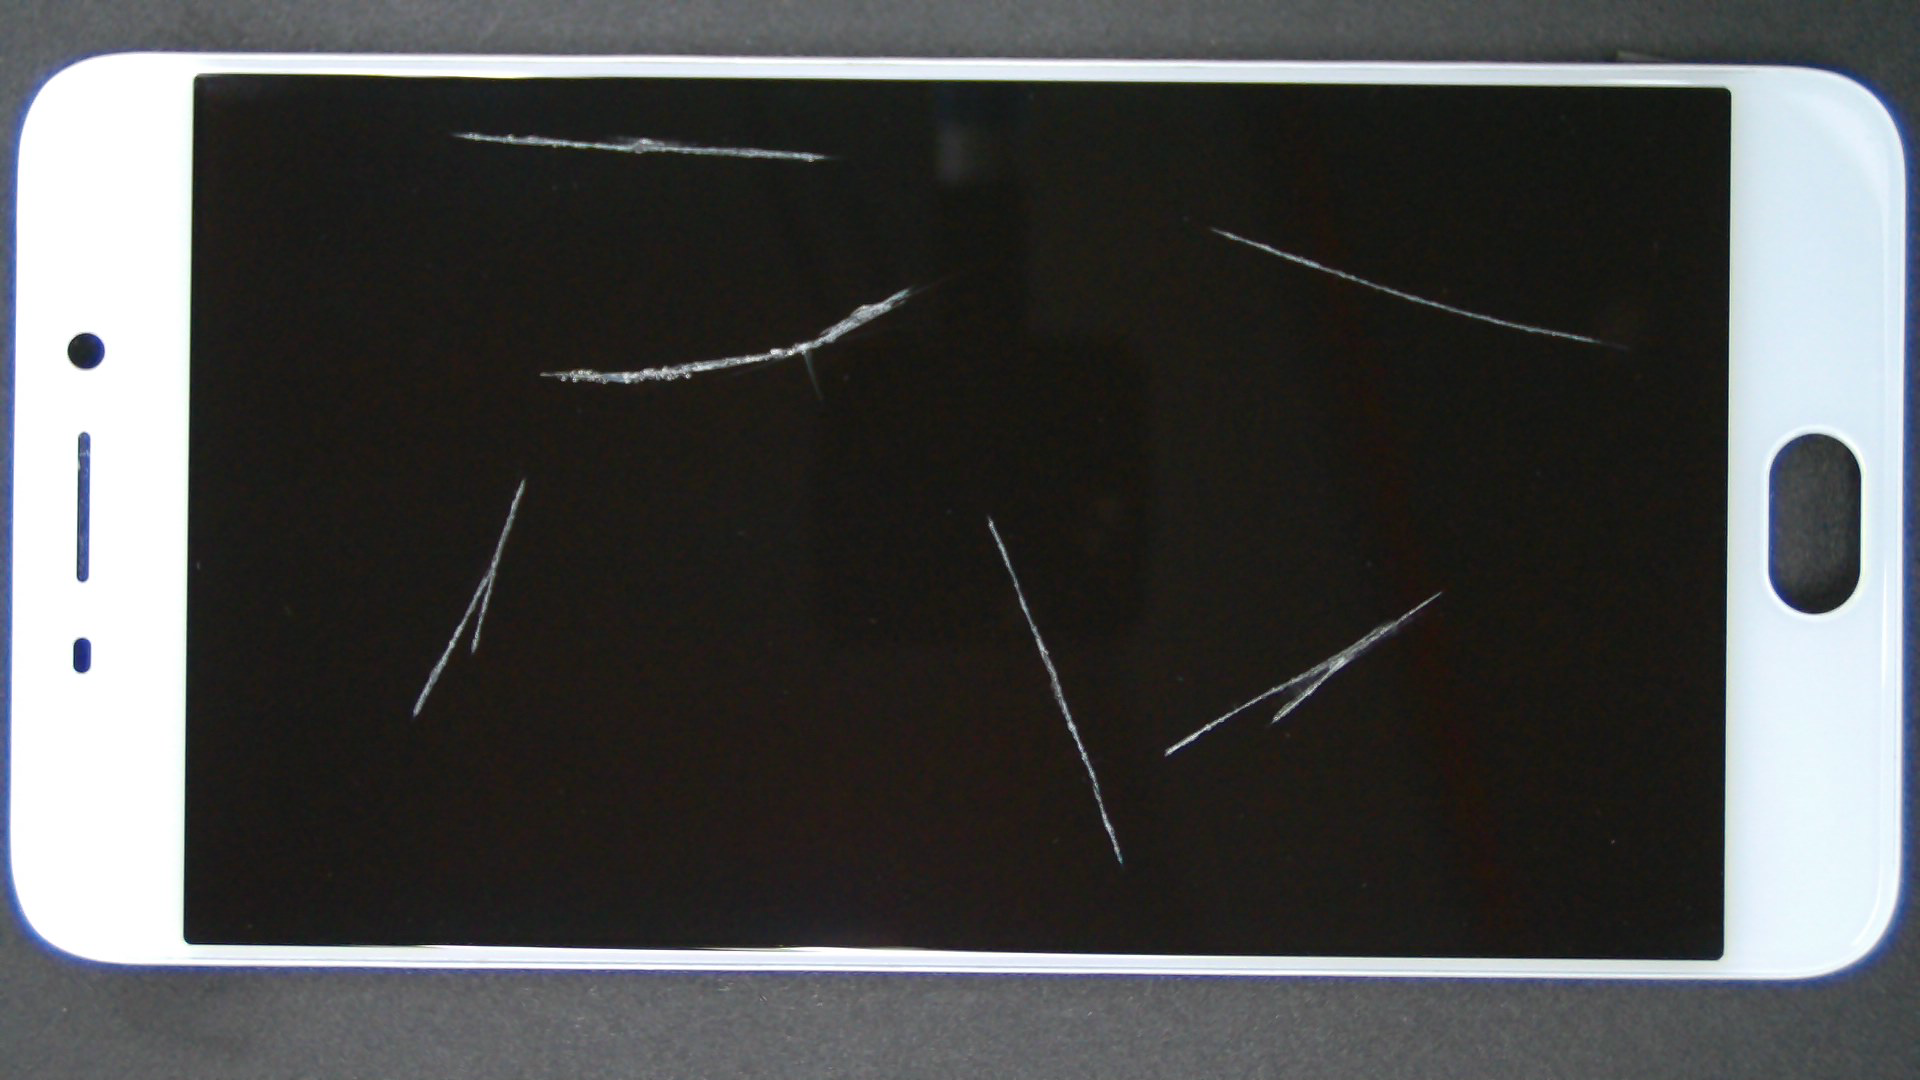defect: (986, 516, 1124, 864), (1163, 591, 1443, 757), (1211, 225, 1600, 343), (538, 285, 923, 384), (411, 479, 526, 717), (450, 131, 829, 162)
